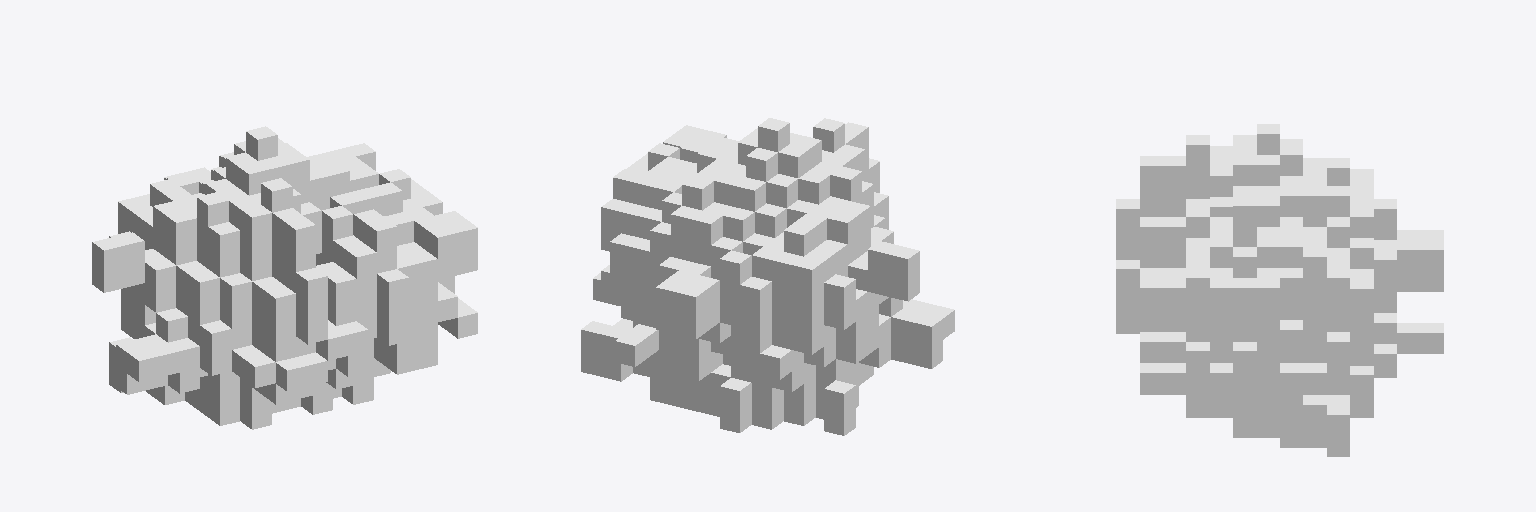
File: Snow_Environment_Deco_Tile_03-6.obj
3 views of the same model, side by side, from view 1: azimuth 30°, elevation 25°; view 2: azimuth 150°, elevation 25°; view 3: azimuth 270°, elevation 25° (orthographic).
Visible parts, largest first — view 1: Snow_Environment_Deco_Tile_03-6; view 2: Snow_Environment_Deco_Tile_03-6; view 3: Snow_Environment_Deco_Tile_03-6.
Part boxes in pixels (x1,y1,x2,y2): Snow_Environment_Deco_Tile_03-6: (92,126,477,429); Snow_Environment_Deco_Tile_03-6: (581,118,954,435); Snow_Environment_Deco_Tile_03-6: (1116,124,1443,456).
Bounding box in the file's own units: 15 × 12 × 14.